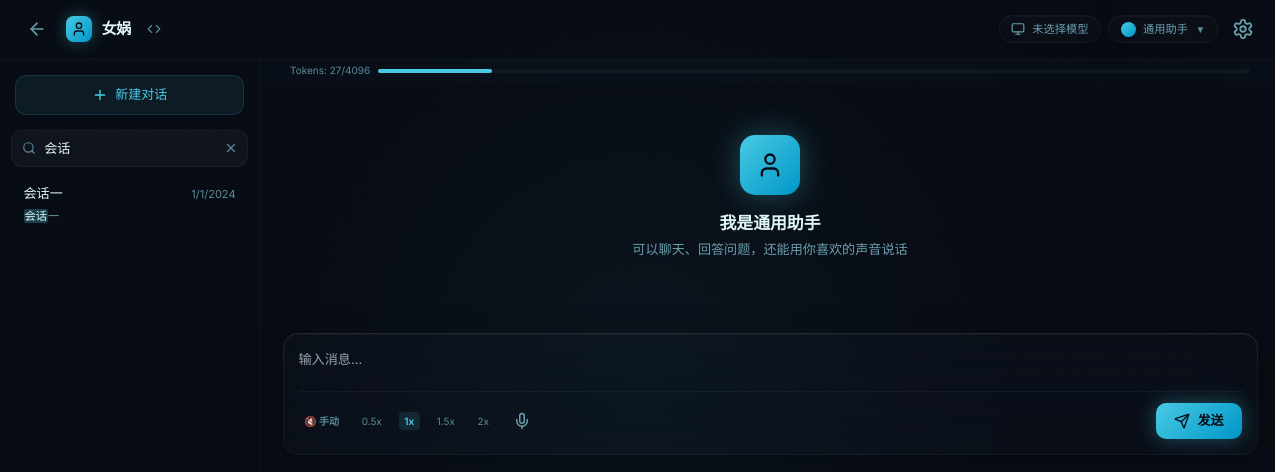
Test: ChatPage search results rendering (Req 1.3/1.4/6.1/6.2/6.3/6.4/7.4) › restores the session list when the search is cleared (Req 1.4/7.4)
Check: the element with test id "search-result" is shown, box x1=11 y1=174 x2=248 y2=236
Note: Clearing the input hides the result list and brings the sessions back.
Click the button named "清除搜索" at (231, 148), box x1=220 y1=137 x2=242 y2=159
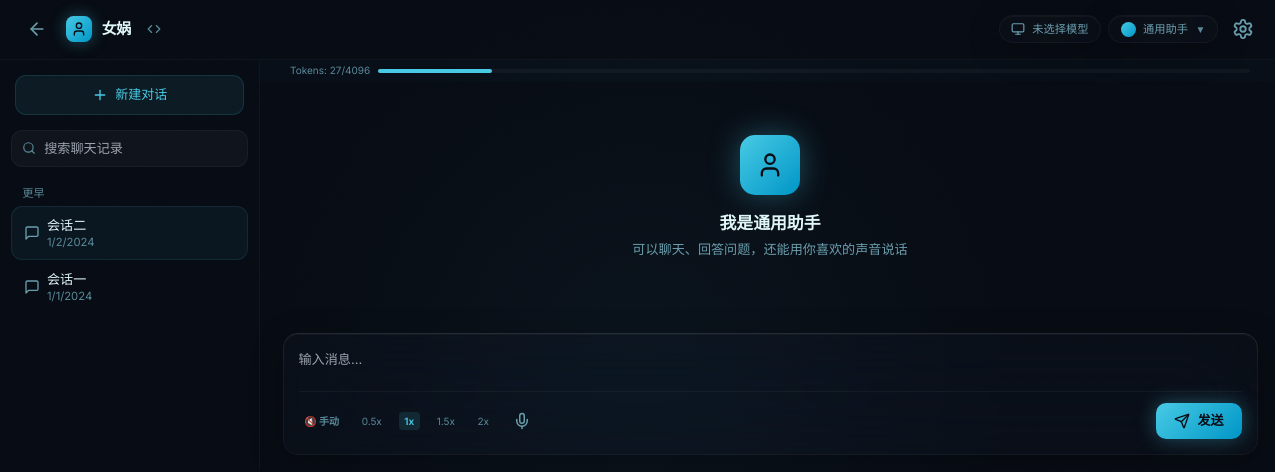
Check: the text "会话一" is shown, box x1=47 y1=271 x2=86 y2=287
Check: the element with test id "search-result" is gone
Check: the text "会话二" is shown, box x1=47 y1=217 x2=86 y2=233
